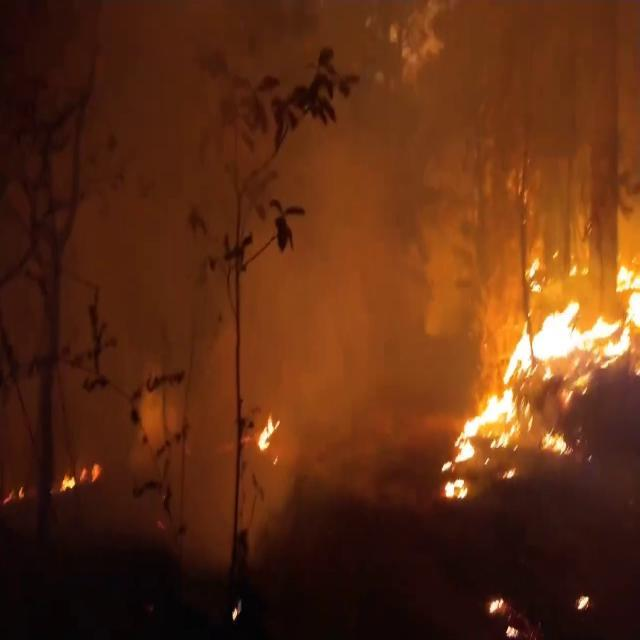Fire: (439, 231, 640, 476), (254, 405, 282, 458)
Smoke: (6, 4, 476, 524)
